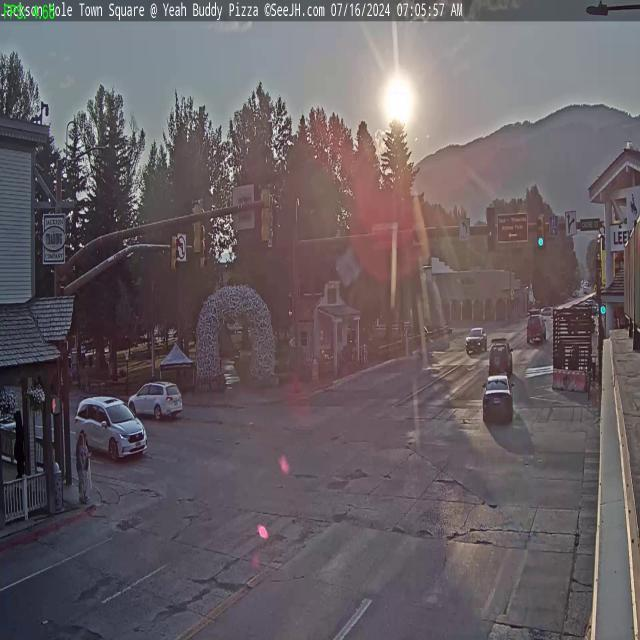minivan: (76, 392, 150, 468)
person: (77, 431, 89, 505)
sedan: (482, 372, 514, 424)
suv: (128, 378, 183, 423), (488, 338, 512, 374), (526, 311, 546, 344), (466, 326, 486, 352)
traffic light: (260, 184, 274, 246), (190, 198, 203, 254), (486, 207, 496, 252), (169, 230, 178, 274), (536, 215, 546, 248)
